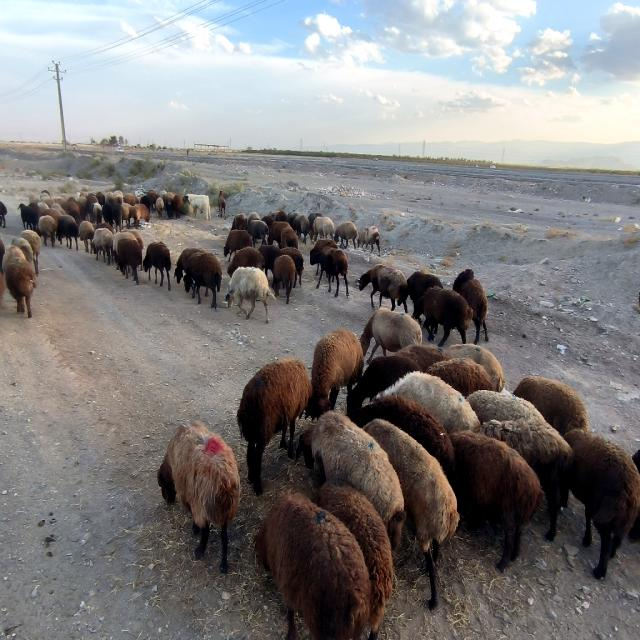sheep: (364, 418, 459, 609), (255, 493, 370, 638), (469, 390, 574, 539), (296, 412, 405, 548), (450, 432, 542, 572), (315, 482, 394, 638), (158, 423, 240, 573), (564, 428, 640, 578), (238, 358, 312, 495), (348, 397, 455, 484), (376, 372, 480, 433), (305, 328, 364, 418), (514, 377, 589, 436), (346, 355, 421, 412), (414, 287, 472, 348), (360, 307, 422, 362), (452, 268, 489, 344), (225, 267, 275, 322), (2, 245, 36, 318), (358, 265, 409, 312), (310, 247, 349, 297), (188, 253, 221, 309), (142, 242, 171, 291), (118, 238, 142, 285), (272, 255, 296, 302), (408, 272, 444, 302), (228, 247, 265, 276), (174, 248, 203, 282), (280, 247, 304, 287), (21, 230, 41, 274), (92, 228, 114, 264), (224, 230, 252, 257), (58, 215, 79, 250), (259, 245, 281, 277), (334, 222, 358, 248), (11, 238, 34, 264), (38, 217, 58, 246), (312, 217, 335, 241), (358, 227, 380, 252), (248, 220, 269, 246), (19, 203, 39, 230), (129, 203, 150, 228), (269, 222, 290, 247), (79, 220, 95, 251), (294, 213, 310, 242), (102, 200, 114, 232), (281, 227, 299, 248), (111, 203, 124, 232), (66, 202, 81, 225), (41, 208, 62, 224), (231, 213, 248, 230), (172, 195, 182, 218), (218, 190, 226, 218), (146, 190, 159, 207), (124, 193, 139, 207), (92, 203, 102, 223), (164, 193, 172, 218), (122, 203, 130, 227), (155, 197, 164, 218), (140, 195, 151, 212), (275, 210, 289, 222)
